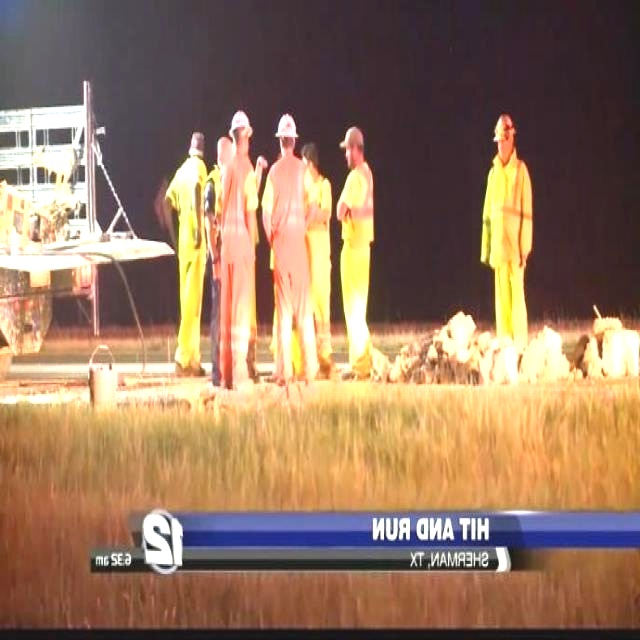Con_Chaleco: (488, 155, 525, 267), (340, 165, 376, 251)
